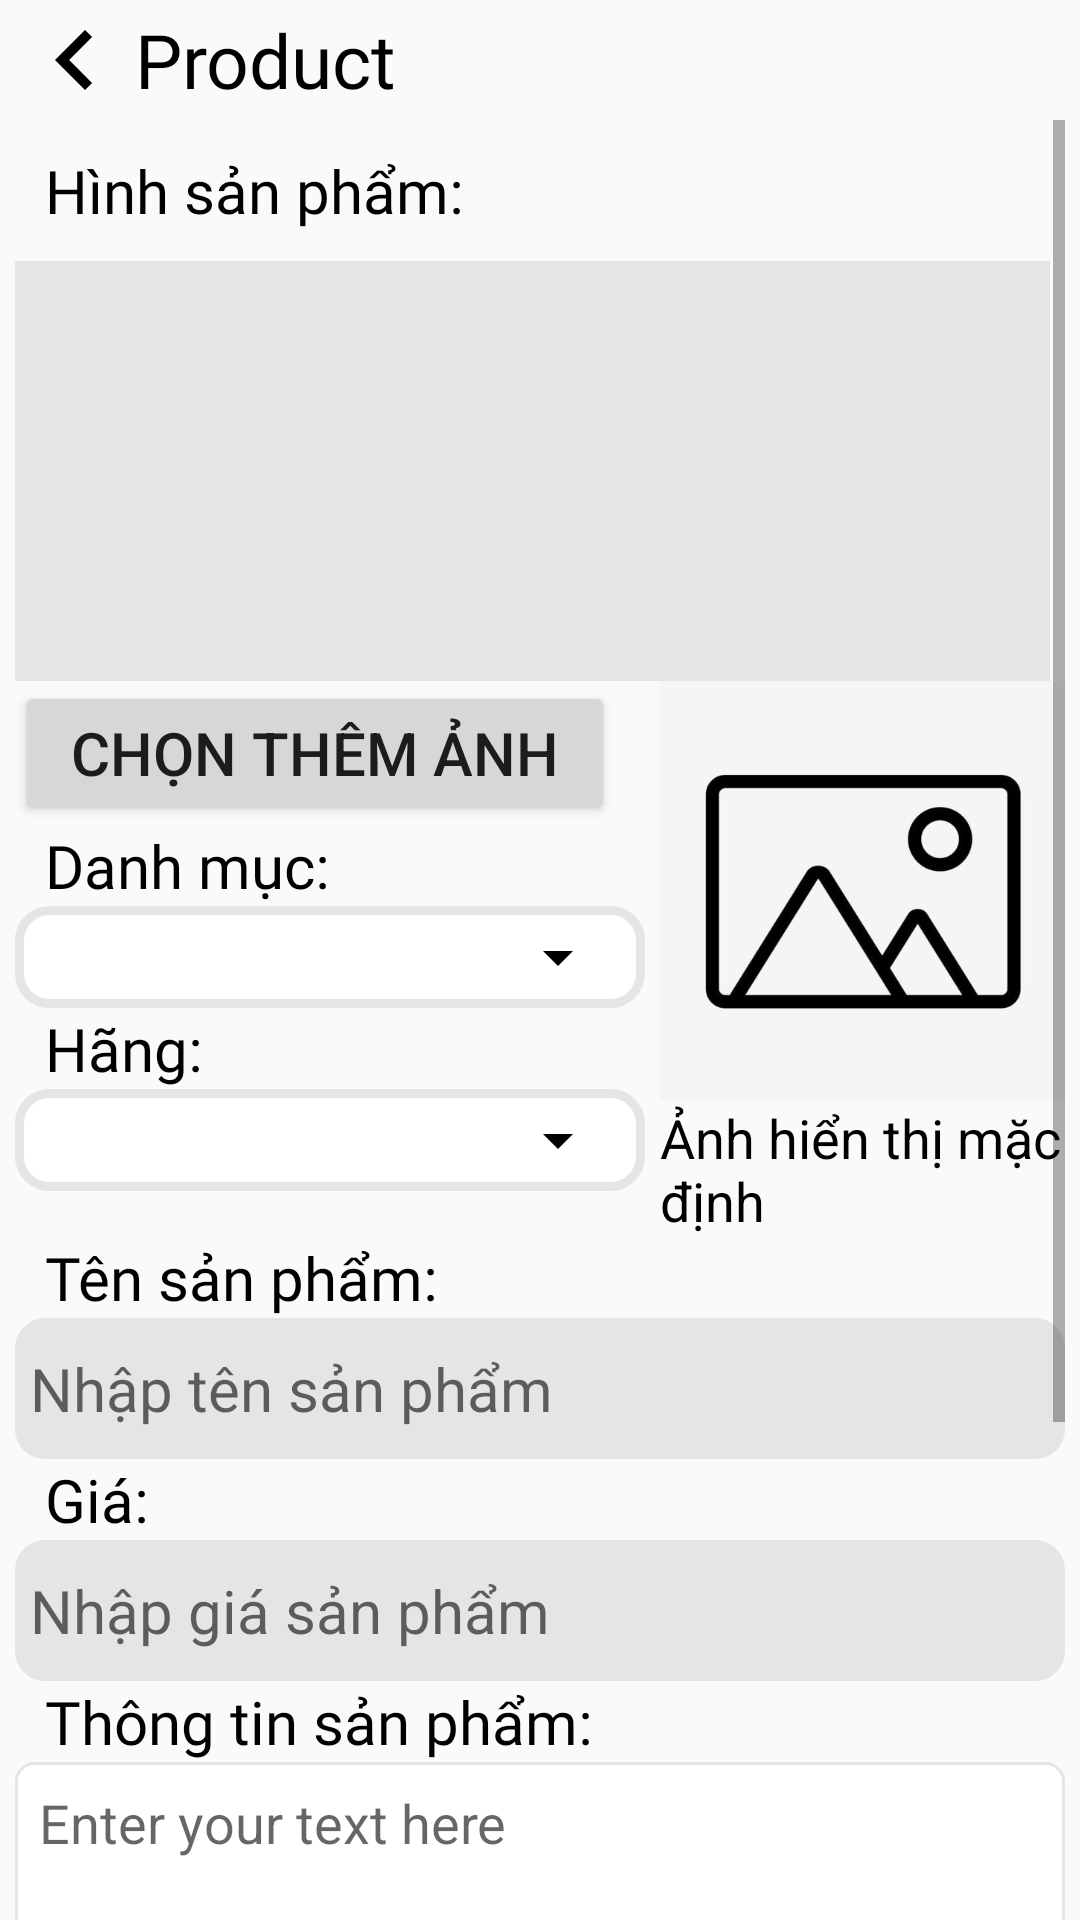

Named icons in this screenshot (1080px x 1920px) and their bounding boxes, (x1, y1, x2, y2):
imagewait: (705, 775, 1021, 1009)
